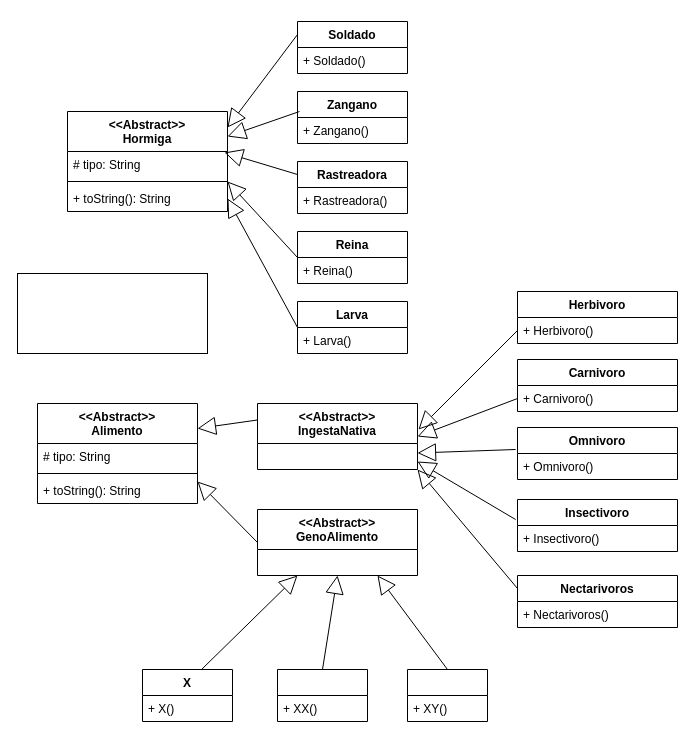
Some shapes in this 695 by 742 pixel diagram are drawn without their labels. Each missing label, with the box of its shape:
<<Interface>> IHormiga + comer(Alimento): bololean: (16, 272, 208, 354)
XX: (276, 668, 368, 722)
XY: (406, 668, 488, 722)
